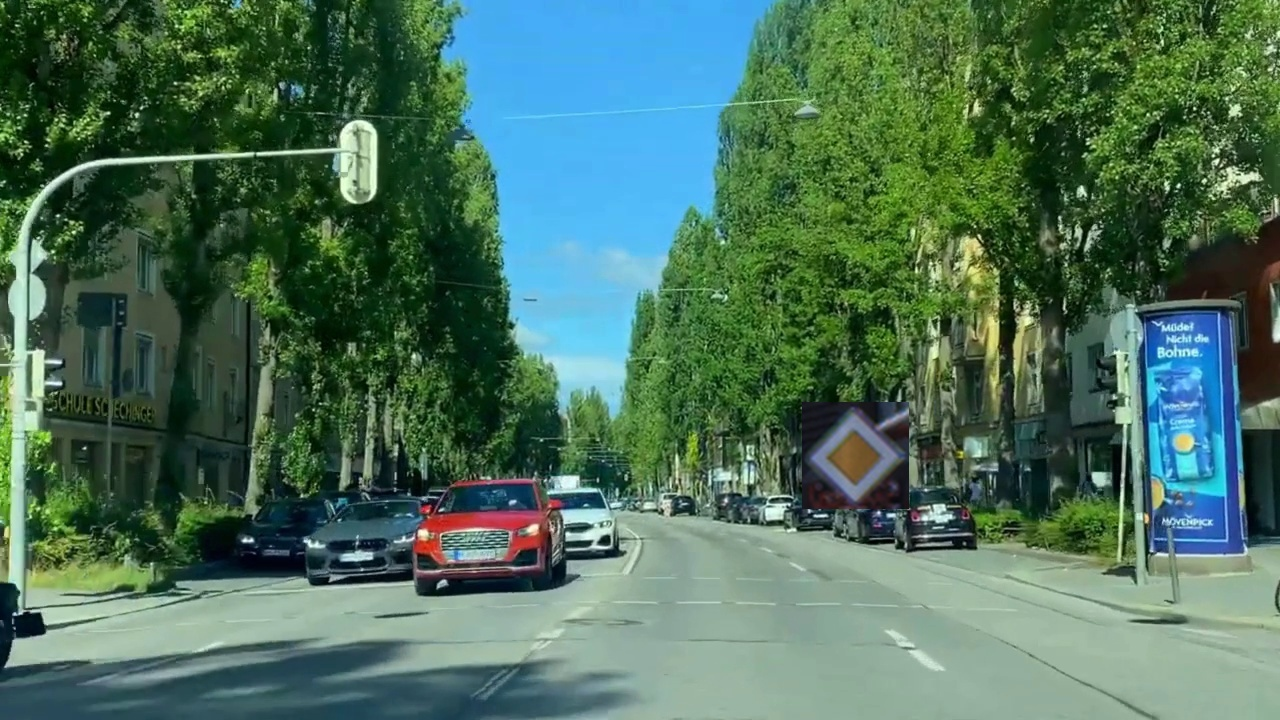Priority road: (802, 402, 909, 509)
